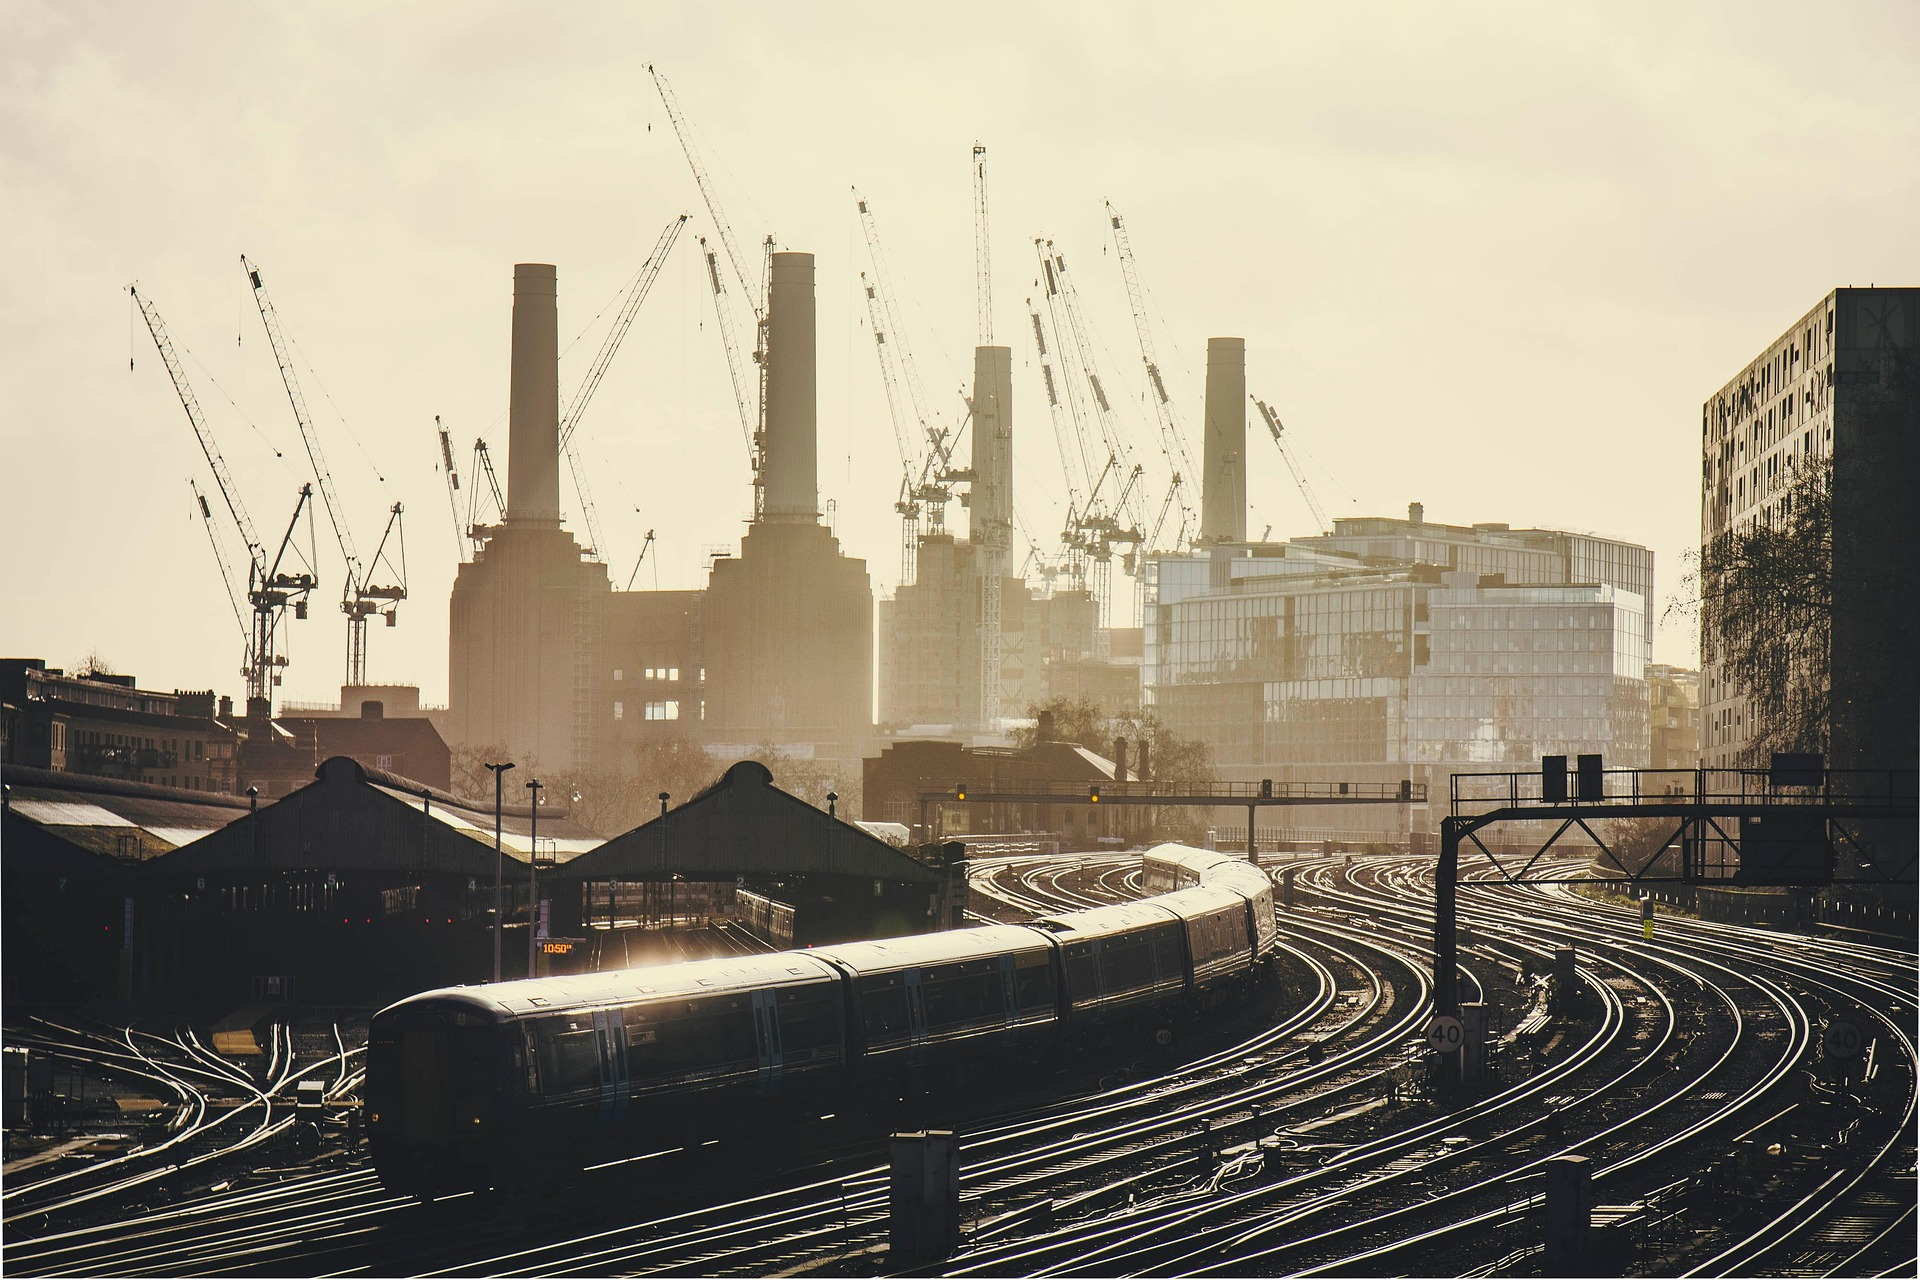train1: (371, 833, 1284, 1204)
